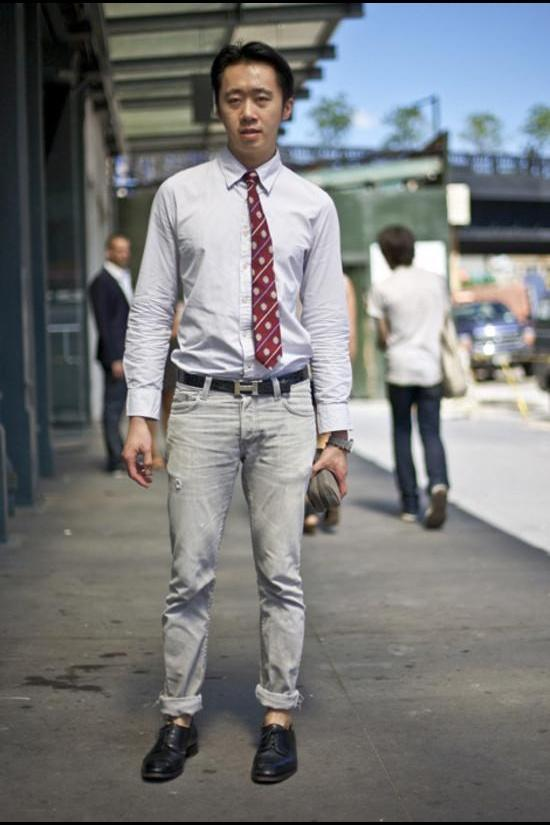pants: (158, 366, 316, 716)
shirt: (120, 150, 354, 431)
